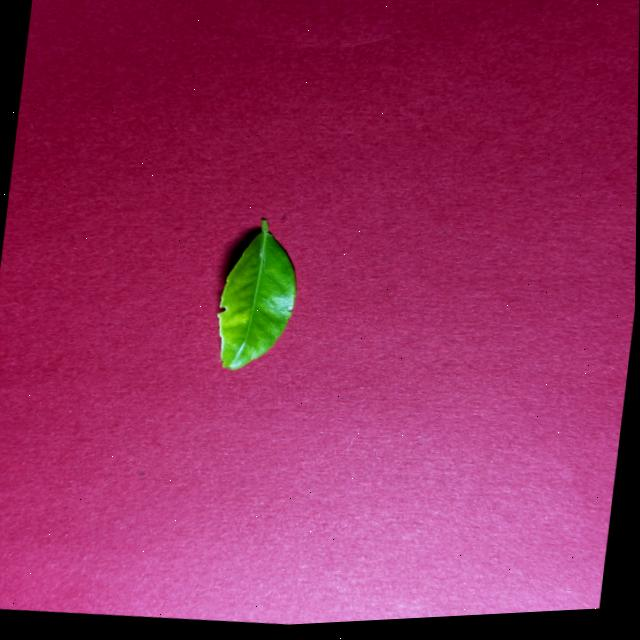greening: (218, 219, 296, 369)
